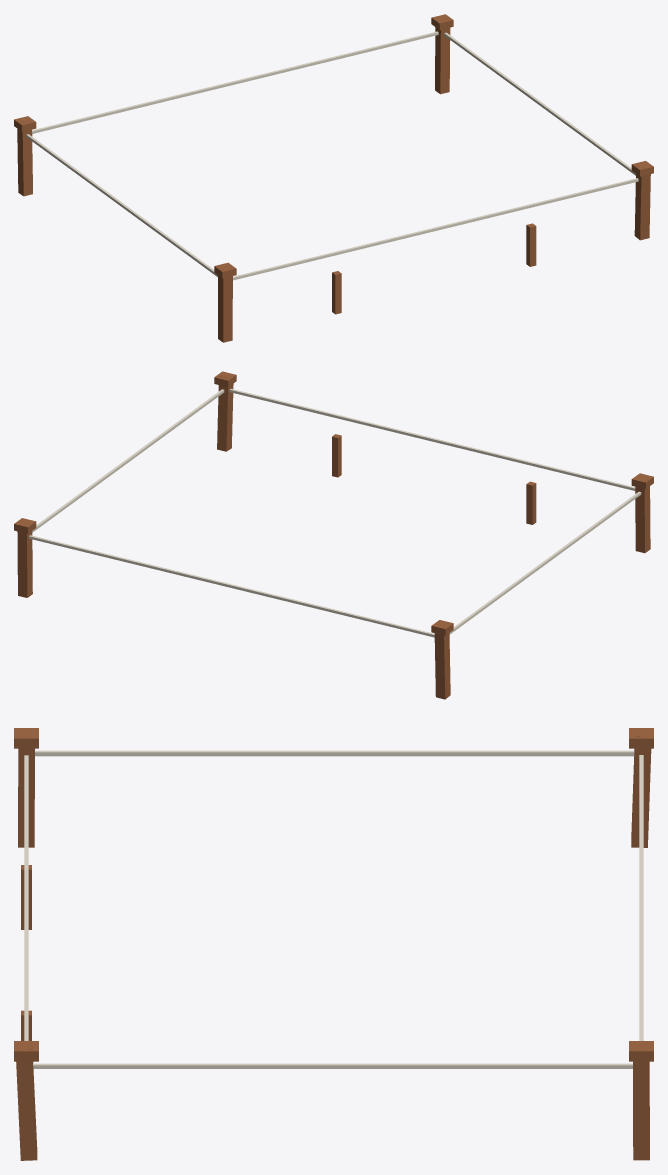
The model's file is feed-store-planned.glb.
The picture shows the model from 3 angles, top to bottom: view 1: azimuth 30°, elevation 25°; view 2: azimuth 150°, elevation 25°; view 3: azimuth 270°, elevation 25°; orthographic projection. The views are drawn at different scales.
Parts seen in each view (by area): view 1: stakes, string_lines; view 2: stakes, string_lines; view 3: string_lines, stakes.
Part boxes in pixels (x1=…): stakes: x1=14, y1=14, x2=653, y2=342; string_lines: x1=26, y1=31, x2=638, y2=280; stakes: x1=14, y1=371, x2=653, y2=699; string_lines: x1=29, y1=388, x2=641, y2=637; string_lines: x1=24, y1=750, x2=643, y2=1068; stakes: x1=14, y1=728, x2=653, y2=1160.
Size of the model in its own units: 2.75 by 0.4424 by 2.3.
